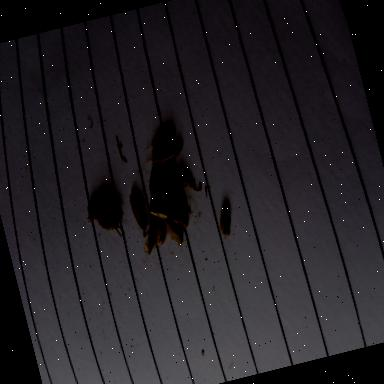pbw: (156, 191, 190, 234), (140, 163, 170, 207), (154, 158, 182, 204), (142, 140, 186, 168), (137, 216, 165, 256), (145, 199, 168, 246), (94, 188, 122, 224), (141, 128, 176, 154), (127, 192, 148, 234), (174, 165, 202, 196), (162, 214, 186, 250), (214, 204, 236, 241)
